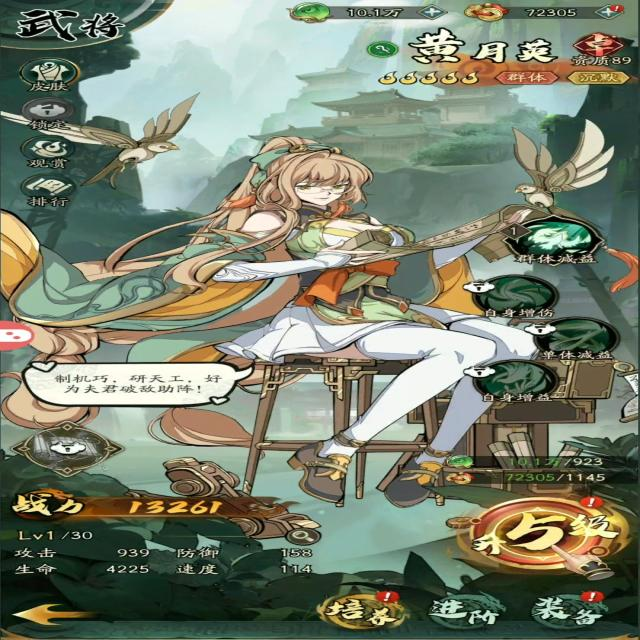hint-guide: (482, 504, 575, 556)
hint-reddot: (575, 492, 614, 510), (372, 591, 404, 605), (578, 590, 608, 604), (604, 3, 628, 13)
operation-HeroAttribute: (278, 527, 330, 550)
operation-HeroLock: (20, 97, 74, 133)
operation-HeroSkin: (22, 56, 76, 88)
operation-advanced: (425, 592, 508, 628)
operation-back: (4, 599, 100, 633)
operation-dialog: (26, 358, 239, 406)
operation-equipment: (525, 589, 615, 628)
operation-heroRank: (7, 173, 98, 211)
operation-levelUp: (435, 498, 616, 568)
operation-train: (316, 592, 409, 632)
operation-watchHero: (13, 136, 78, 168)
skill-multi1-off: (460, 354, 563, 407)
skill-multi2-off: (517, 315, 628, 365)
skill-multi3-off: (462, 274, 560, 320)
skill-multi4-on: (478, 208, 607, 268)
skill-shenbing-off: (15, 421, 132, 479)
